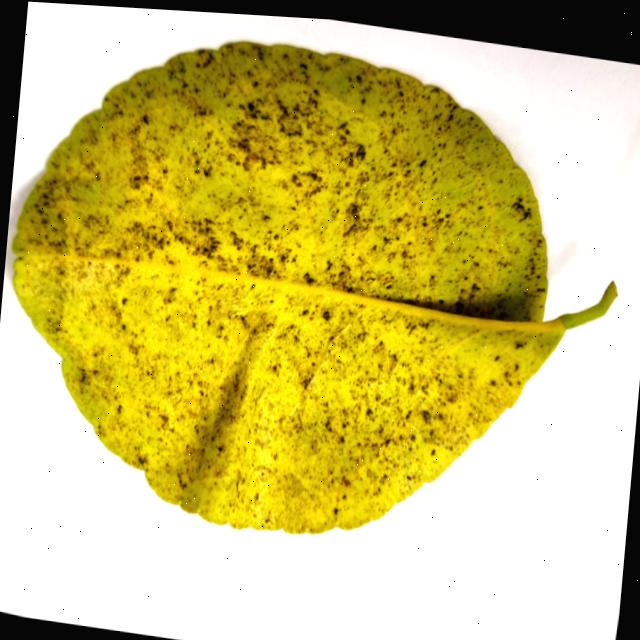melanose: (12, 42, 616, 533)
